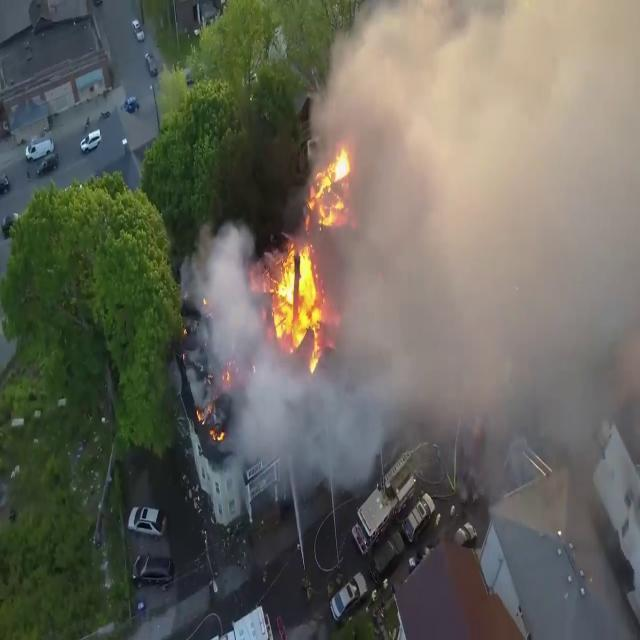Fire: (262, 144, 352, 373)
Smoke: (305, 0, 640, 542), (188, 213, 297, 474)
